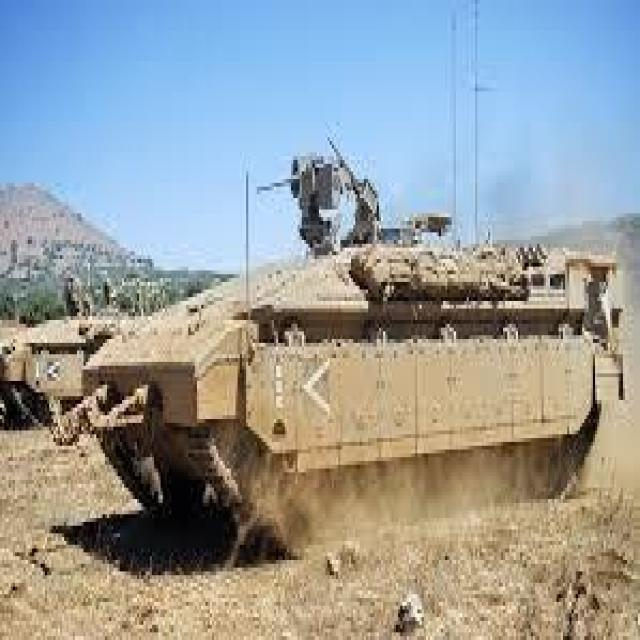MIL_MBT: (88, 234, 623, 539), (0, 324, 83, 423)
